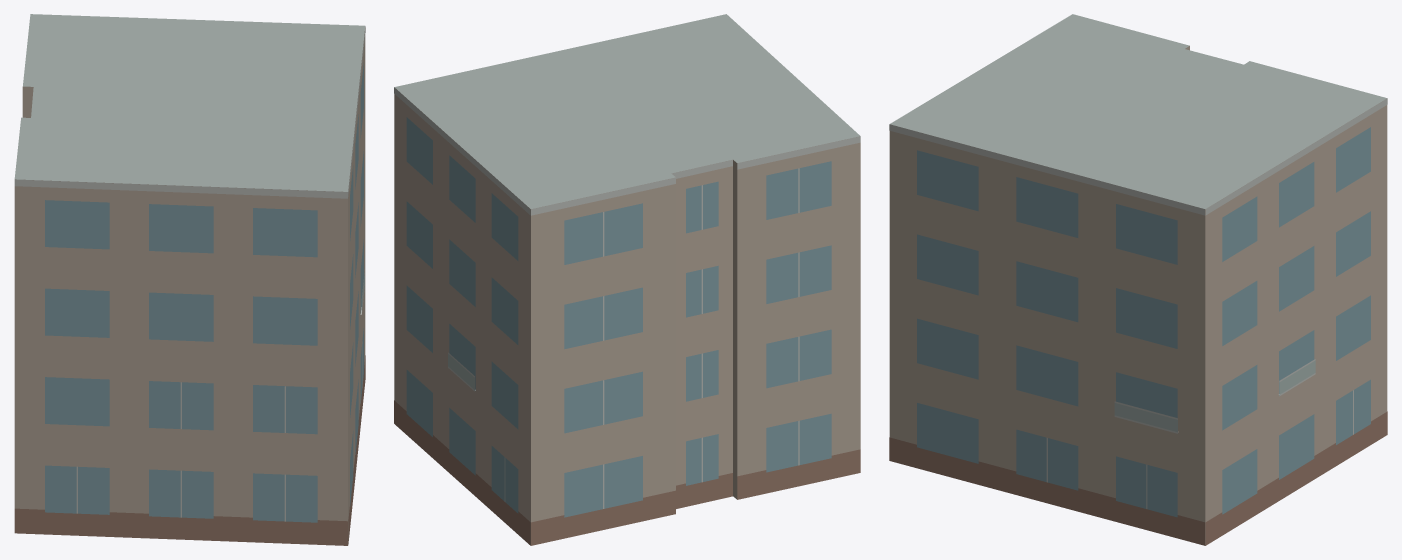
Rendered from survey-upis-32725750.glb.
3 views of the same model, side by side, from view 1: azimuth 30°, elevation 25°; view 2: azimuth 150°, elevation 25°; view 3: azimuth 270°, elevation 25° (orthographic). The views are drawn at different scales.
Parts seen in each view (by area): view 1: survey-upis-32725750.tmp; view 2: survey-upis-32725750.tmp; view 3: survey-upis-32725750.tmp.
Part boxes in pixels (left/top/right/bottom): survey-upis-32725750.tmp: left=14, top=14, right=365, bottom=545; survey-upis-32725750.tmp: left=394, top=14, right=860, bottom=545; survey-upis-32725750.tmp: left=889, top=14, right=1387, bottom=545.
Bounding box in the file's own units: 15.8 × 12.7 × 17.04.
